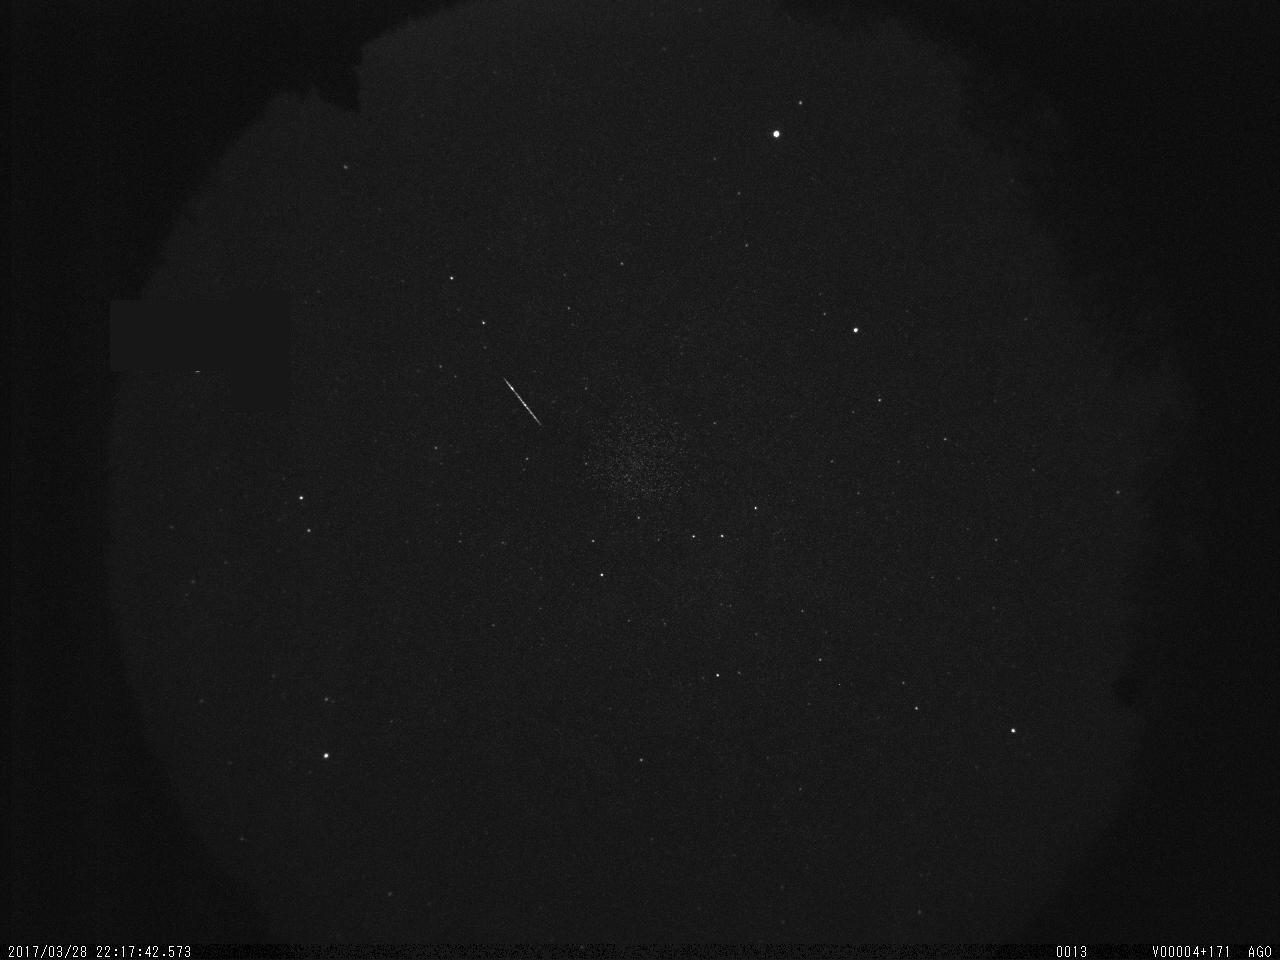meteor: (489, 361, 563, 436)
